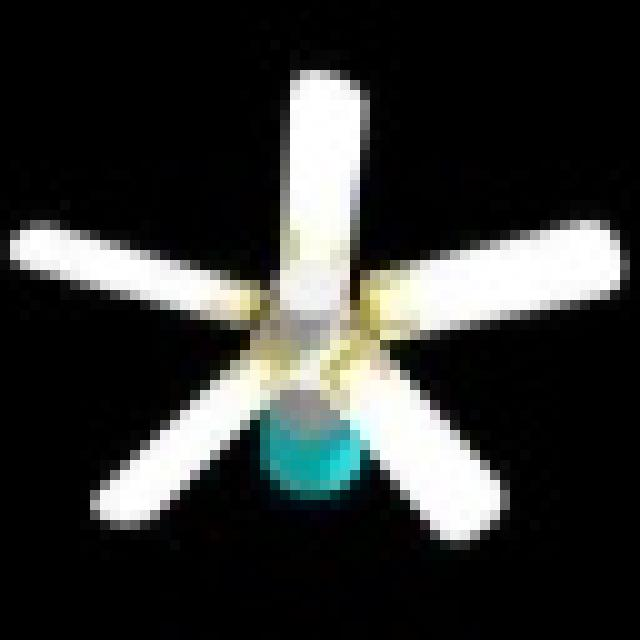Bulb: (37, 61, 640, 523)
